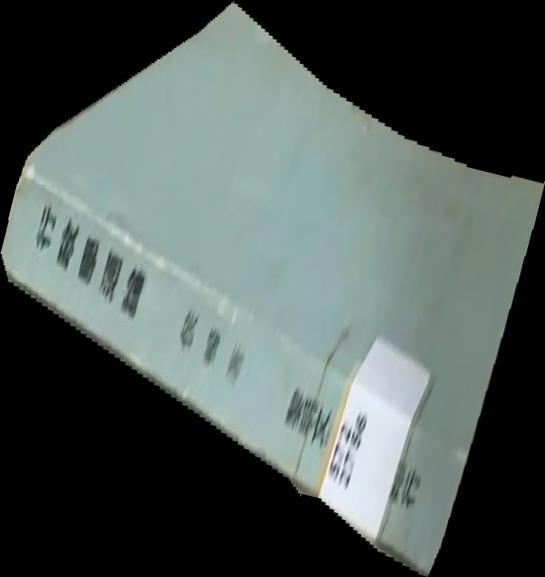flat: (1, 1, 545, 577)
